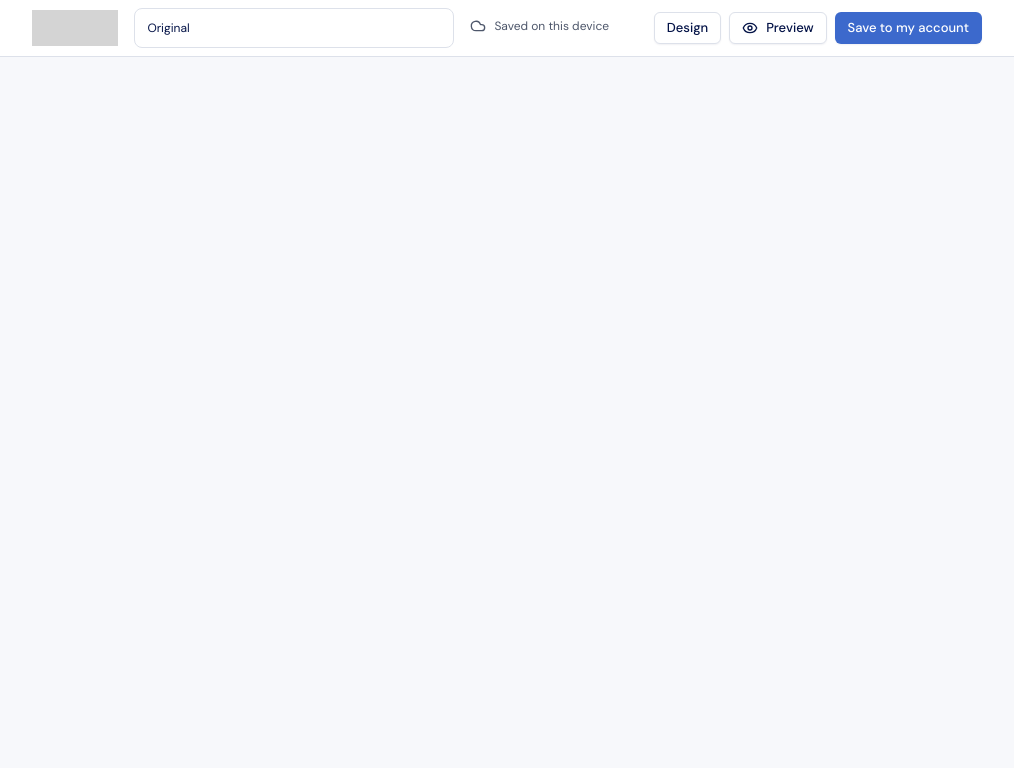
Test: Save after signing in somewhere else › shows the sign-up gate when nobody is signed in
This screenshot has width=1024, height=768.
expect the text "Saved on this device" is shown: met, box [470,16,609,34]
Click the button "Save to my account" at (908, 28), box [835,12,982,44]
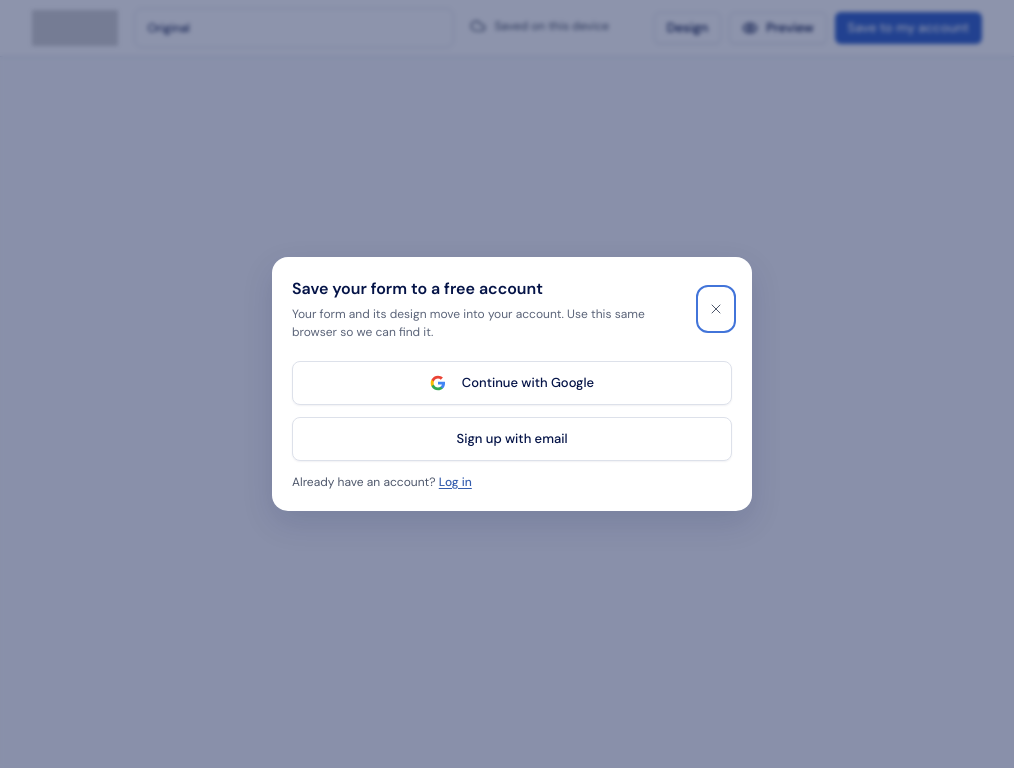
expect the dialog is shown: met, box [272,257,752,511]
